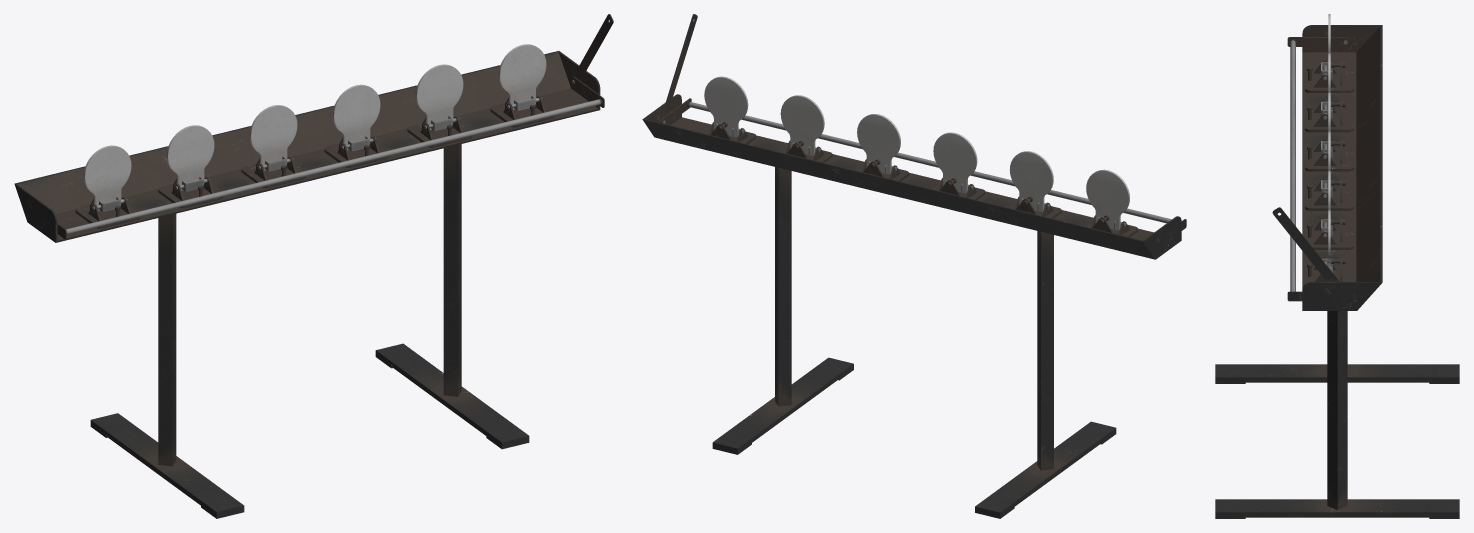
Rendered from plate_rack.gltf.
3 renders of one model, left to right at view 1: azimuth 30°, elevation 25°; view 2: azimuth 150°, elevation 25°; view 3: azimuth 270°, elevation 25°, orthographic. The views are drawn at different scales.
Visible parts, largest first — view 1: Stand, ResetArm, Plate5, Plate4, Plate2, Plate3, Plate6, Plate1; view 2: Stand, ResetArm, Plate5, Plate3, Plate6, Plate2, Plate4, Plate1; view 3: Stand, ResetArm.
Part boxes in pixels (x1,y1,x2,y2): Stand: [14, 51, 600, 518]; ResetArm: [57, 14, 613, 238]; Plate5: [166, 125, 214, 191]; Plate4: [249, 105, 297, 171]; Plate2: [415, 64, 463, 130]; Plate3: [332, 84, 380, 151]; Plate6: [83, 145, 131, 211]; Plate1: [498, 44, 546, 110]; Stand: [642, 94, 1181, 518]; ResetArm: [659, 14, 1186, 230]; Plate5: [1009, 151, 1053, 211]; Plate3: [857, 114, 900, 174]; Plate6: [1086, 169, 1129, 230]; Plate2: [780, 95, 824, 155]; Plate4: [933, 132, 977, 193]; Plate1: [704, 76, 748, 137]; Stand: [1215, 25, 1459, 518]; ResetArm: [1272, 37, 1350, 301].
Bounding box in the file's own units: 2.38 × 1.57 × 0.953.
Materials: 1 (1 with a texture image).
